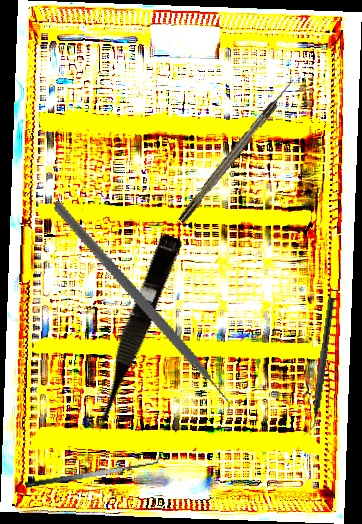Chopper: (7, 200, 274, 427), (301, 296, 336, 438)
Hook Surgical: (176, 77, 298, 224)
Micro Scissor: (82, 230, 184, 436)
Spatula Surgical: (23, 451, 161, 489)
